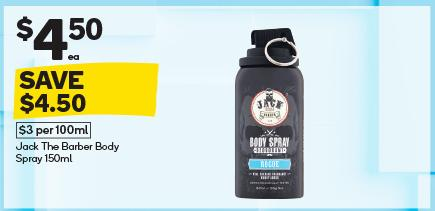description_block: (9, 140, 124, 171)
price_main: (8, 11, 116, 63)
product_image_block: (216, 27, 338, 202)
promo_text_block: (7, 64, 163, 120)
unit_price_block: (12, 120, 97, 141)
